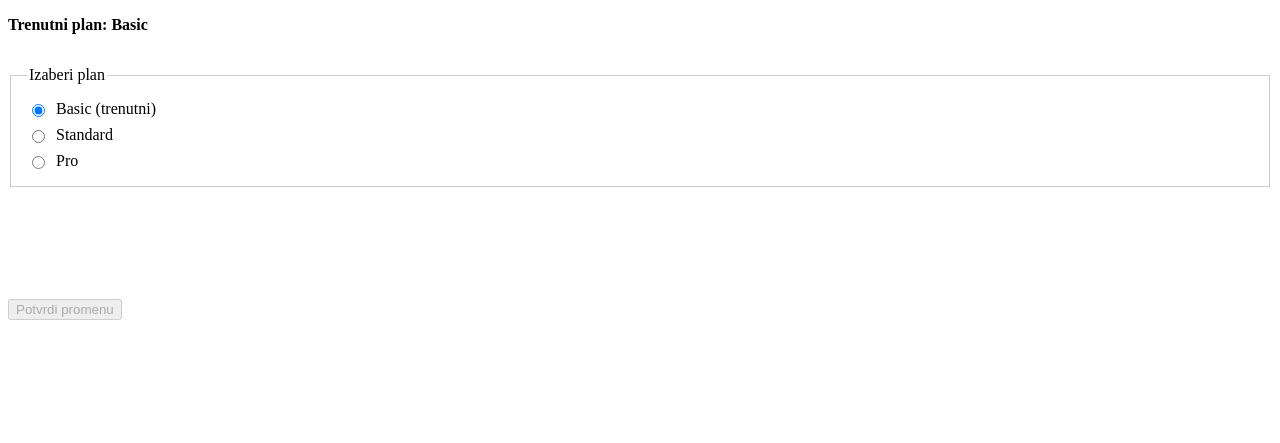
PlanChangePage › quote that expires before confirm shows message and loads new preview
Check: the text "Trenutni plan: Basic" is shown, box [8, 16, 148, 33]
Click the radio button labelled "Pro": (38, 162) [32, 156, 45, 169]
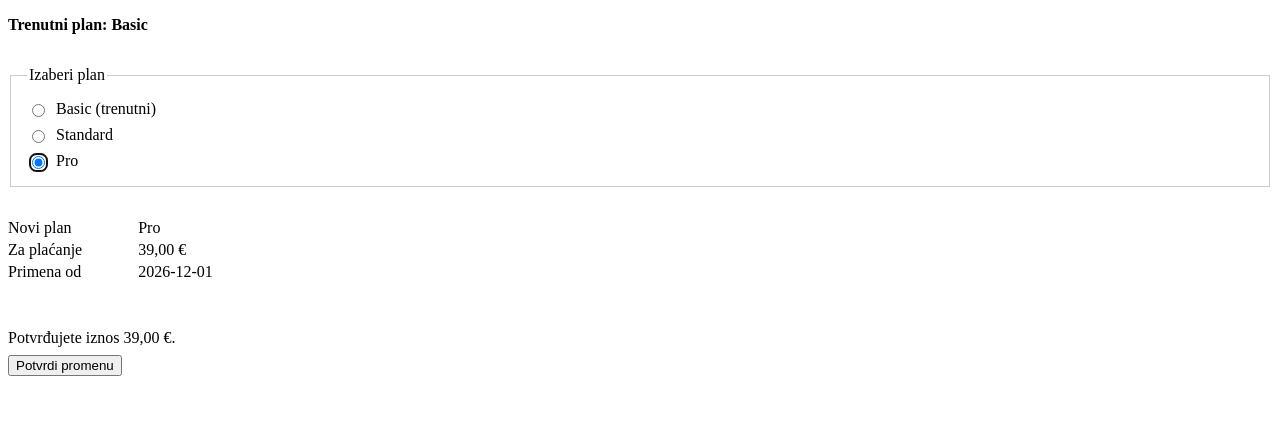
Click the button "Potvrdi promenu": (65, 366) [8, 355, 122, 376]
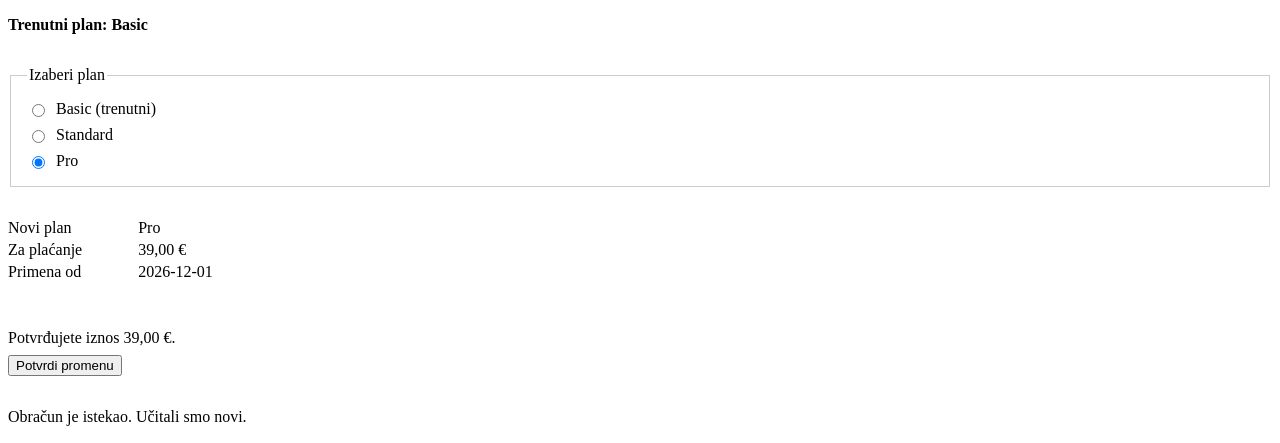
Check: the text "Trenutni plan: Basic" is shown, box [8, 16, 148, 33]
Check: the message reads "Obračun je istekao. Učitali smo novi.", box [8, 408, 247, 425]
